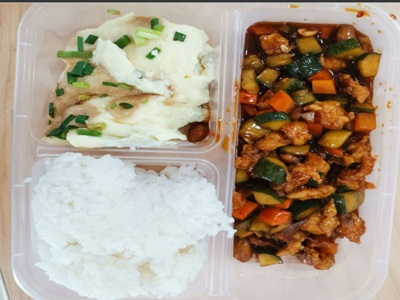gbjd: (253, 26, 363, 267)
jdg: (48, 19, 199, 142)
rice: (23, 153, 196, 288)
